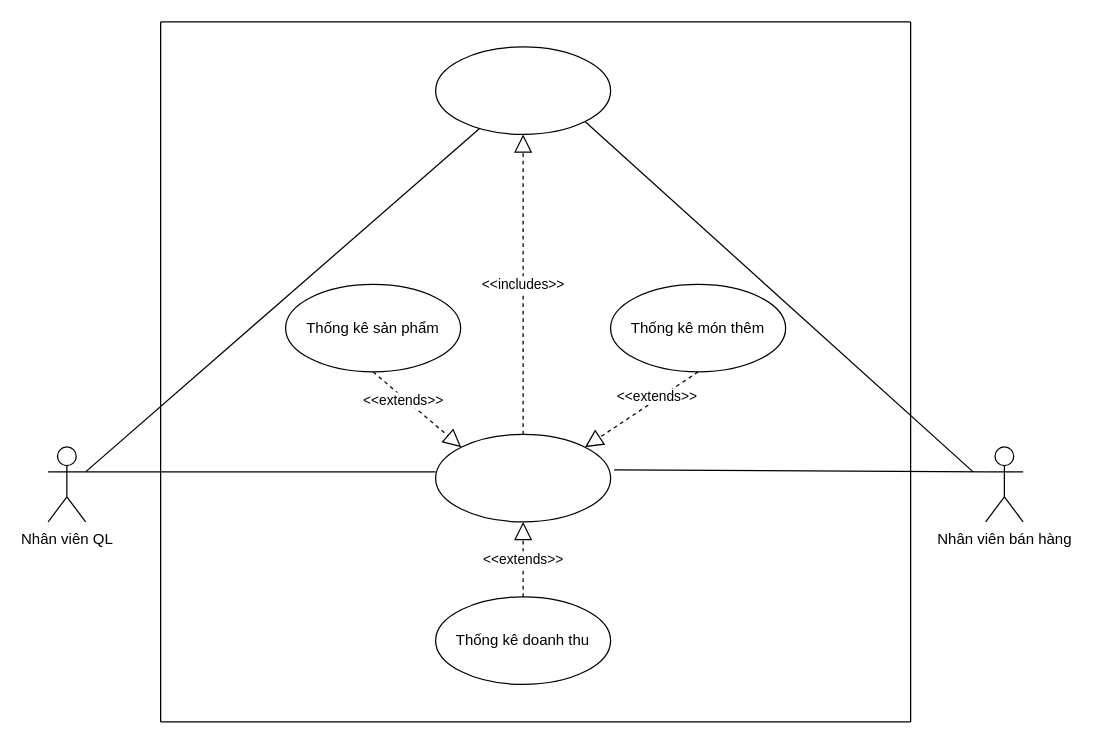
Image size: 1093x745. Some labels were removed from this diagram. The box of each missing label's shape, as (x1, y1, x2, y2) in pixels:
Thống kê báo cáo: (434, 433, 611, 522)
Đăng nhập: (434, 46, 611, 134)
